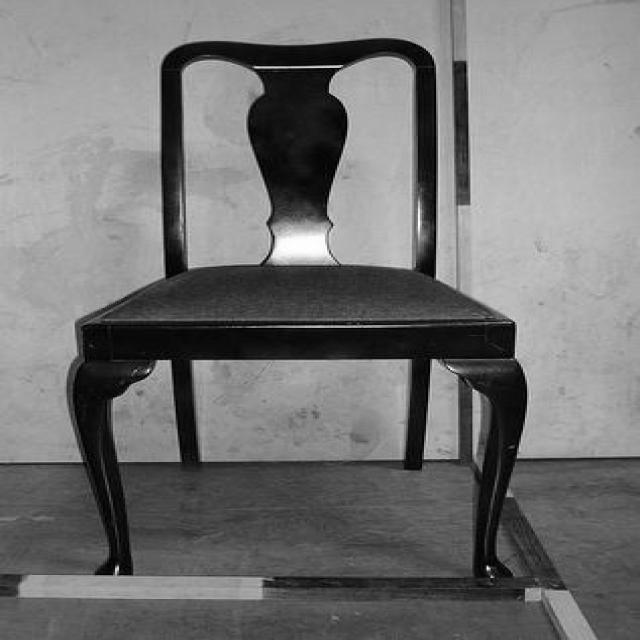chair: (68, 34, 522, 580)
